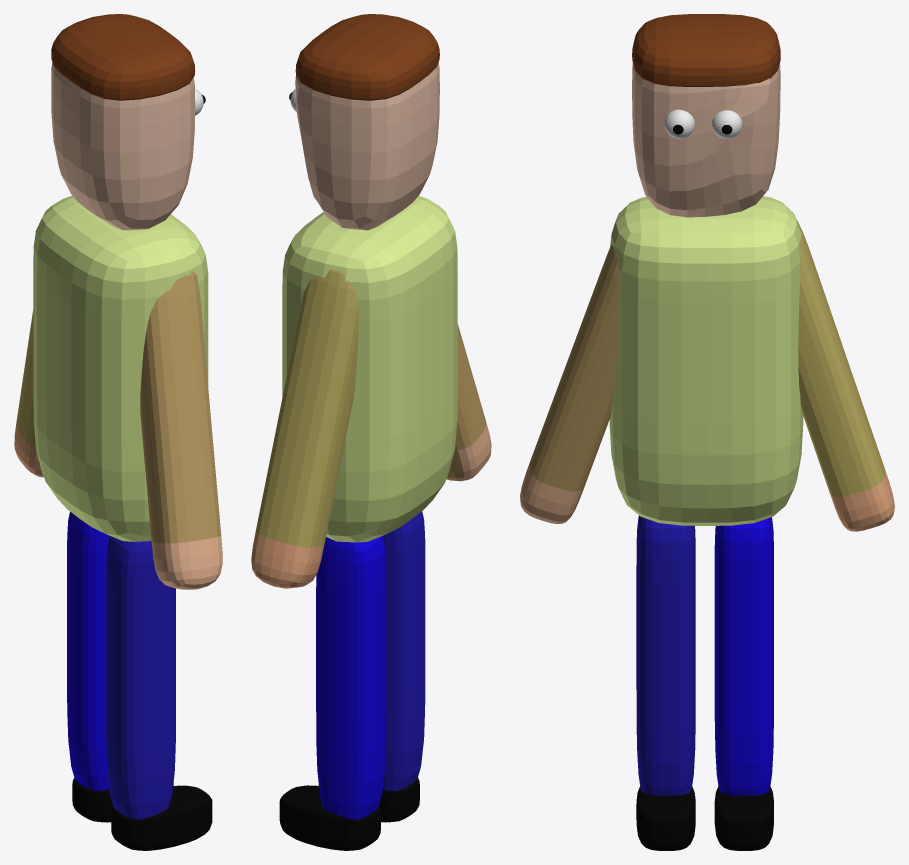
The model's file is Persona.fbx.
3 renders of one model, left to right at view 1: azimuth 30°, elevation 25°; view 2: azimuth 150°, elevation 25°; view 3: azimuth 270°, elevation 25°, orthographic.
Parts seen in each view (by area): view 1: Cube.009, Cube.013, Cube.011, Cube.008, Cube.010, Cube.014, Cube.015, Cube.012, Cube.016; view 2: Cube.009, Cube.012, Cube.010, Cube.008, Cube.011, Cube.014, Cube.016, Cube.013, Cube.015; view 3: Cube.009, Cube.008, Cube.011, Cube.010, Cube.012, Cube.013, Cube.014, Cube.015, Cube.016.
Boxes of the visible parts, x1,y1,x2,y2 form: Cube.009: (33,195,208,541); Cube.013: (140,271,222,589); Cube.011: (106,536,175,819); Cube.008: (51,62,195,230); Cube.010: (67,511,109,791); Cube.014: (51,14,195,100); Cube.015: (111,785,212,850); Cube.012: (14,310,43,477); Cube.016: (72,778,173,822); Cube.009: (282,196,457,542); Cube.012: (251,269,358,588); Cube.010: (316,536,386,819); Cube.008: (295,62,439,230); Cube.011: (382,511,425,791); Cube.014: (295,14,439,100); Cube.016: (279,785,380,850); Cube.013: (446,324,491,481); Cube.015: (318,778,419,822); Cube.009: (609,196,803,525); Cube.008: (632,63,780,217); Cube.011: (636,515,695,795); Cube.010: (714,517,773,795); Cube.012: (796,220,894,531); Cube.013: (520,244,618,523); Cube.014: (632,14,780,86); Cube.015: (636,786,695,850); Cube.016: (714,786,773,850).
Bounding box in the file's own units: 152 × 872 × 370.
